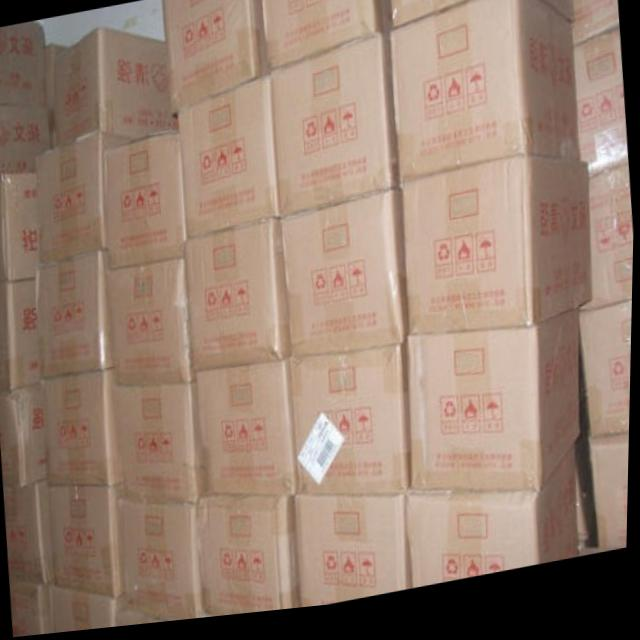box: (391, 0, 580, 194), (402, 165, 591, 345), (408, 319, 582, 502), (268, 39, 402, 226), (406, 455, 581, 597), (281, 194, 410, 364), (292, 343, 414, 505), (178, 77, 281, 245), (186, 224, 292, 374), (193, 364, 300, 504), (54, 29, 178, 147), (296, 498, 415, 614), (198, 497, 303, 623), (35, 131, 131, 265), (162, 0, 268, 118), (104, 135, 188, 272), (107, 261, 196, 386), (115, 386, 205, 507), (262, 0, 395, 77), (121, 503, 201, 625), (38, 252, 114, 380), (41, 370, 121, 491), (574, 40, 629, 191), (49, 486, 122, 599), (580, 176, 635, 324), (580, 312, 634, 452), (5, 479, 56, 586), (0, 381, 48, 488), (591, 446, 631, 566), (0, 279, 40, 391), (0, 173, 40, 282), (390, 0, 501, 37), (0, 21, 45, 106), (0, 103, 50, 174), (55, 589, 120, 634), (570, 0, 620, 58), (11, 576, 57, 638), (43, 44, 68, 150), (120, 609, 174, 629)
